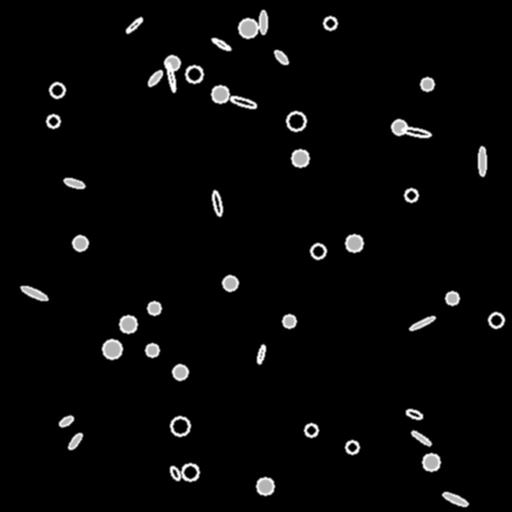pseudomonas: (19, 284, 49, 302), (441, 490, 469, 508), (409, 315, 435, 331), (410, 429, 432, 447), (229, 95, 257, 109), (401, 126, 431, 138), (146, 69, 164, 87), (125, 16, 143, 34), (211, 36, 231, 52), (166, 62, 176, 92), (273, 48, 289, 66), (67, 432, 83, 450), (63, 177, 85, 189), (212, 191, 222, 215), (478, 147, 486, 175), (58, 414, 74, 428), (405, 408, 423, 420), (256, 344, 266, 364), (169, 465, 181, 481), (260, 11, 267, 33)
synechocystis: (239, 19, 257, 37), (103, 340, 121, 358), (171, 417, 189, 435), (287, 112, 305, 130), (346, 235, 362, 251), (423, 454, 439, 470), (186, 66, 202, 82), (292, 150, 308, 166), (212, 86, 228, 102), (257, 478, 273, 494), (120, 316, 136, 332), (182, 464, 198, 480), (223, 276, 237, 290), (489, 313, 503, 327), (50, 83, 64, 97), (73, 236, 87, 250), (165, 56, 179, 70), (392, 120, 406, 134), (311, 244, 325, 258), (173, 365, 187, 379), (146, 344, 158, 356), (47, 115, 59, 127), (324, 17, 336, 29), (405, 189, 417, 201), (283, 315, 295, 327), (305, 424, 317, 436), (421, 78, 433, 90), (346, 441, 358, 453), (446, 292, 458, 304), (148, 302, 160, 314)
